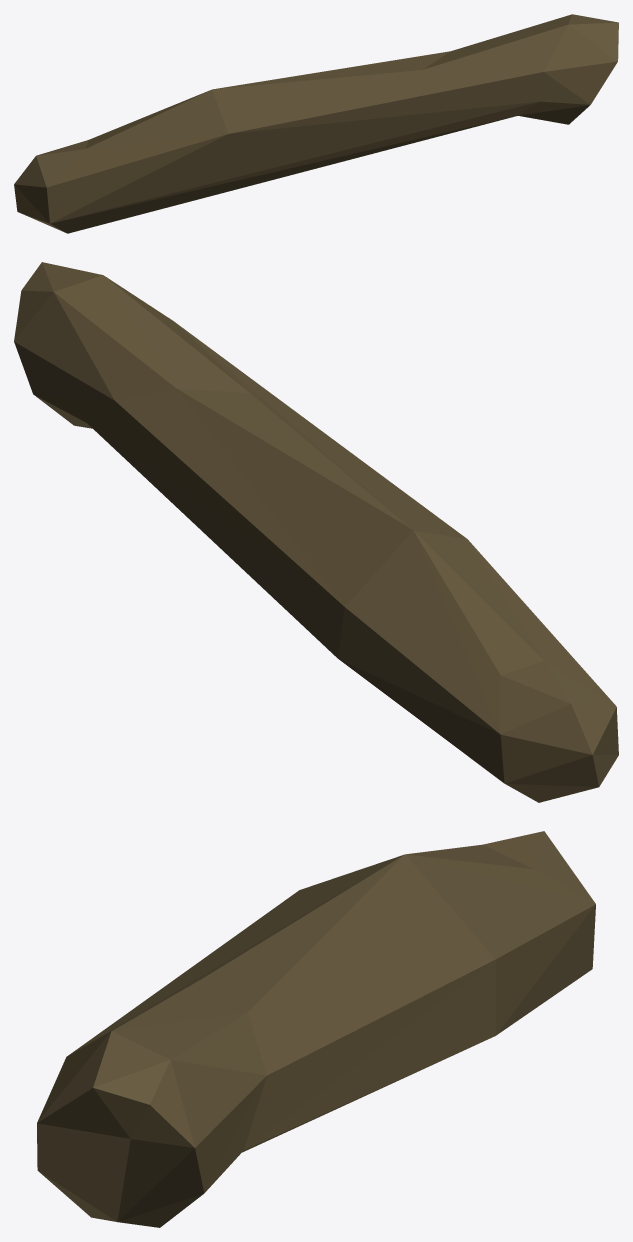
Rendered from ant-femur-middle-right.dae.
3 renders of one model, top to bottom at view 1: azimuth 30°, elevation 25°; view 2: azimuth 150°, elevation 25°; view 3: azimuth 270°, elevation 25°, orthographic. The views are drawn at different scales.
Visible parts, largest first — view 1: ant-femur-middle-right; view 2: ant-femur-middle-right; view 3: ant-femur-middle-right.
Boxes of the visible parts, x1,y1,x2,y2 form: ant-femur-middle-right: (14, 14, 618, 233); ant-femur-middle-right: (14, 262, 618, 802); ant-femur-middle-right: (37, 831, 595, 1227).
Size of the model in its own units: 4.13 by 2.05 by 1.46.
